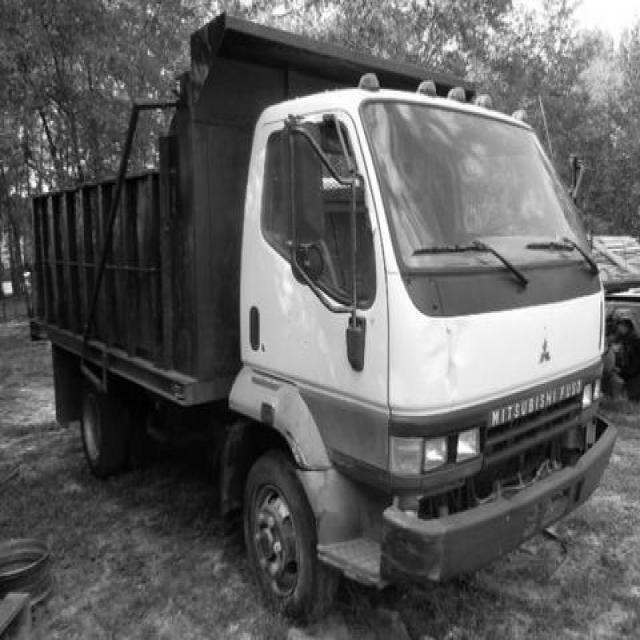truck: (202, 41, 640, 611)
